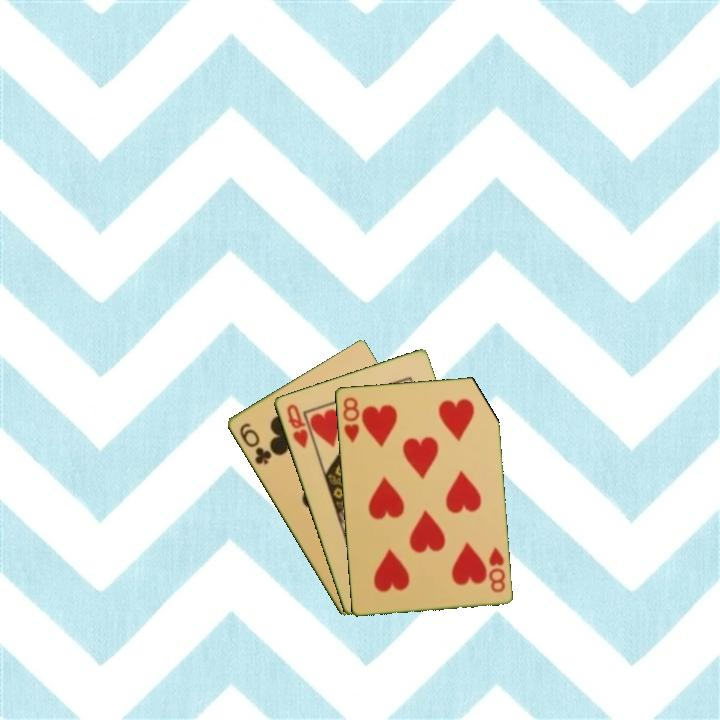6c: (236, 419, 274, 467)
8h: (339, 393, 362, 445), (485, 543, 508, 595)
Qh: (283, 400, 311, 451)
